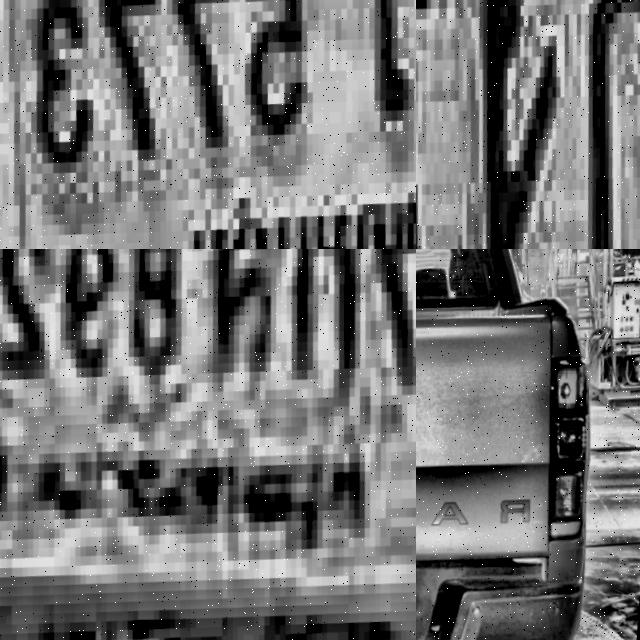license-plate: (0, 249, 416, 640), (0, 0, 416, 249), (416, 0, 640, 249)
